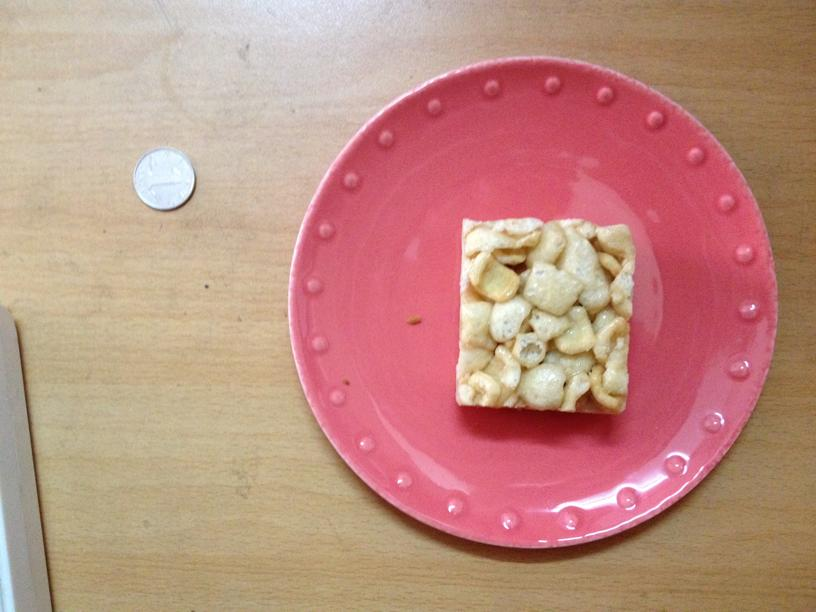coin: (134, 147, 196, 211)
sachima: (452, 213, 635, 417)
